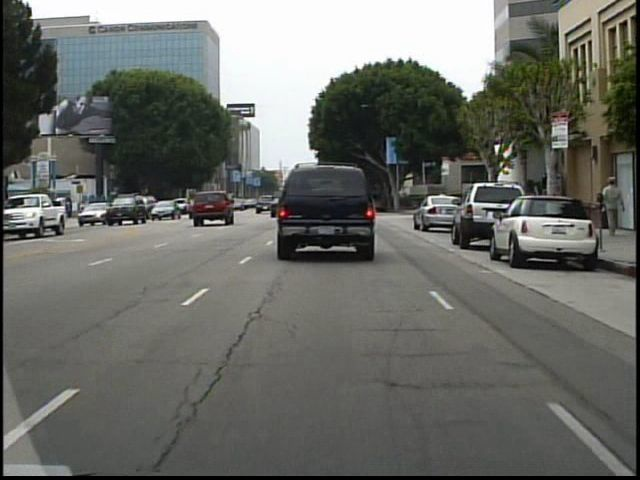person: (597, 172, 622, 237), (479, 176, 499, 221), (434, 186, 451, 222), (31, 198, 47, 226)
